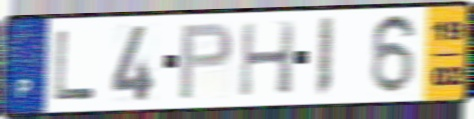4: (109, 22, 160, 105)
6: (369, 11, 424, 99)
H: (237, 19, 299, 99)
I: (313, 15, 337, 99)
L: (51, 28, 97, 102)
P: (176, 20, 236, 102)
